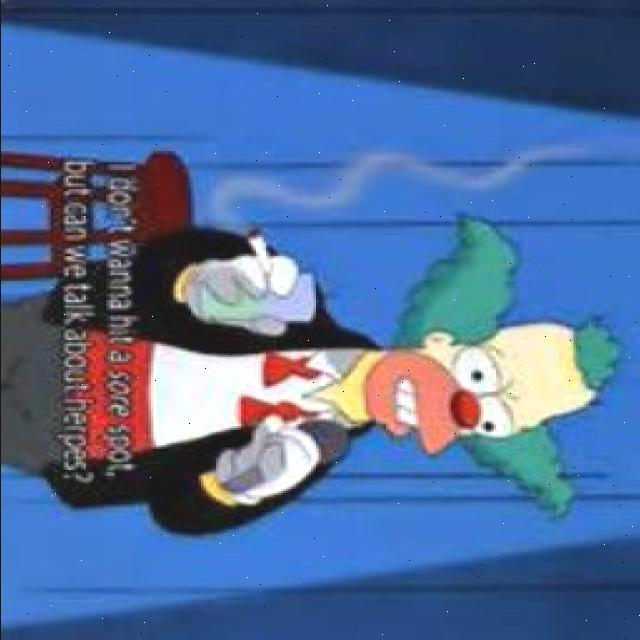Krusty the Clown: (336, 213, 618, 513)
